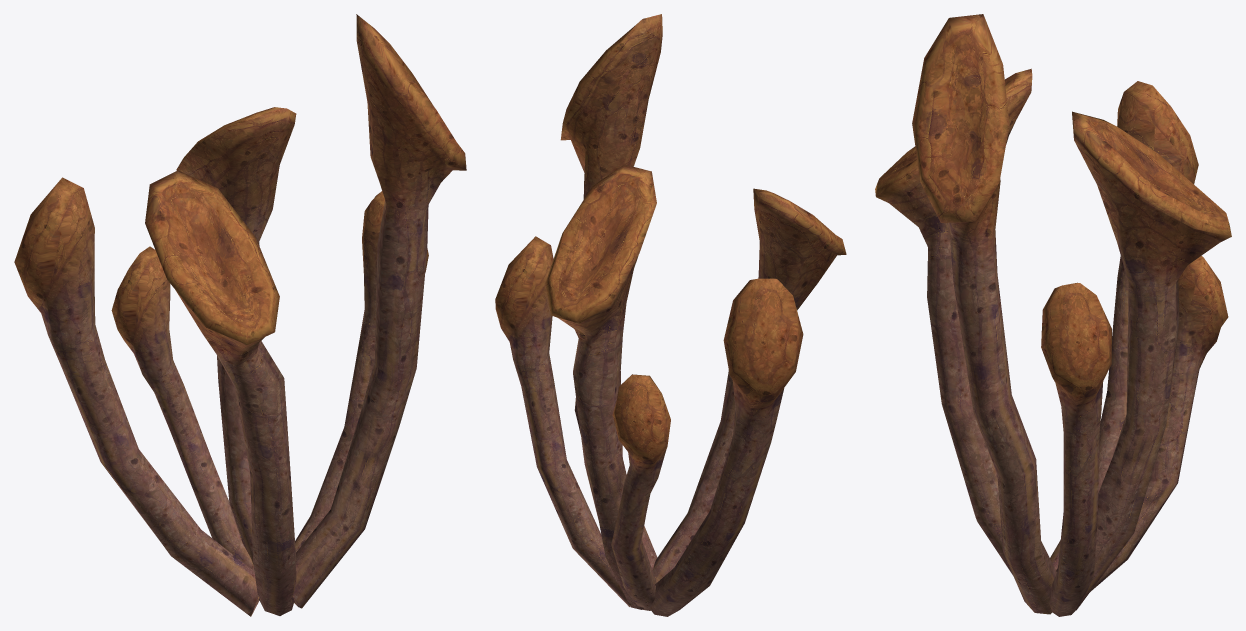
File: Shroom_Plant2_3_L0.fbx
3 views of the same model, side by side, from view 1: azimuth 30°, elevation 25°; view 2: azimuth 150°, elevation 25°; view 3: azimuth 270°, elevation 25° (orthographic). The views are drawn at different scales.
Parts seen in each view (by area): view 1: polySurface290; view 2: polySurface290; view 3: polySurface290.
Part boxes in pixels (x1,y1,x2,y2): polySurface290: [14, 14, 466, 616]; polySurface290: [495, 14, 846, 616]; polySurface290: [875, 14, 1231, 616].
Bounding box in the file's own units: 63.53 × 102 × 53.18.
